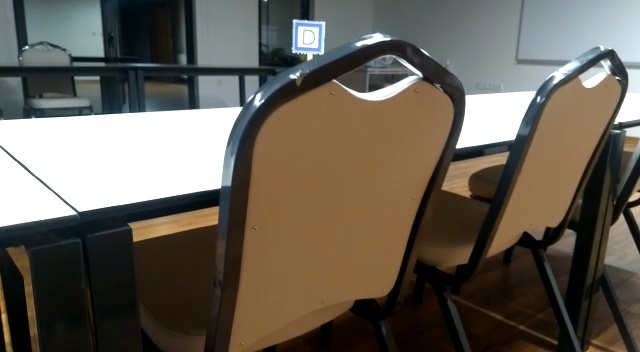durak: (290, 22, 326, 53)
